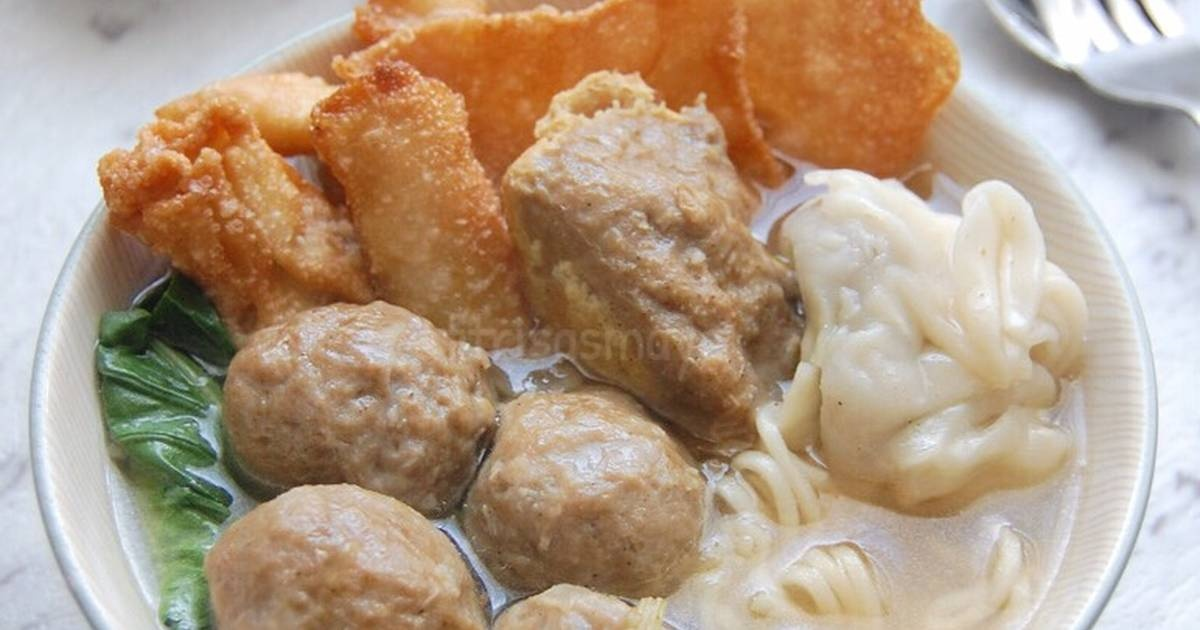bakso_malang: (106, 1, 1095, 630)
